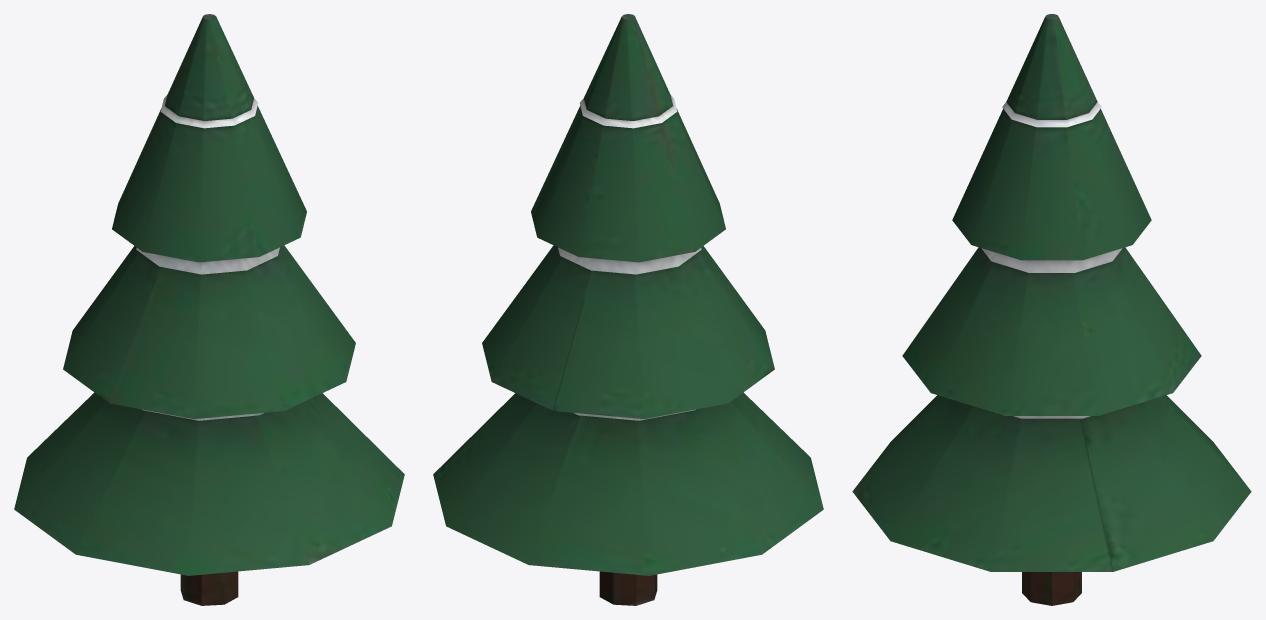
Rendered from pino_nevado.glb.
3 renders of one model, left to right at view 1: azimuth 30°, elevation 25°; view 2: azimuth 150°, elevation 25°; view 3: azimuth 270°, elevation 25°, orthographic.
Visible parts, largest first — view 1: pino_nevado; view 2: pino_nevado; view 3: pino_nevado.
Boxes of the visible parts, x1,y1,x2,y2 form: pino_nevado: (14,14,404,605); pino_nevado: (433,14,823,605); pino_nevado: (852,14,1251,605).
Bounding box in the file's own units: 2.8 × 4.69 × 2.94.
Materials: 1 (1 with a texture image).
